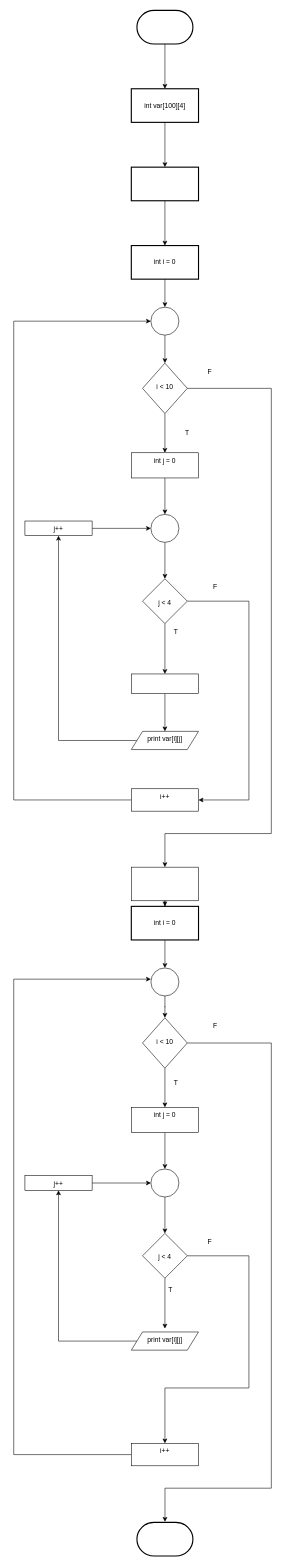
The diagram is 286 pixels wide and 1566 high, and some of its shapes have lost their labels. Here are the shapes that lost their labels. From the top down, the centre of each, then its label:
At (x=164, y=27): "start".
At (x=164, y=183): "int (*a)[4] = var".
At (x=165, y=683): "var[i][j] = i*10 + j".
At (x=165, y=884): "a[1][4] = 99".
At (x=164, y=1539): "End".
